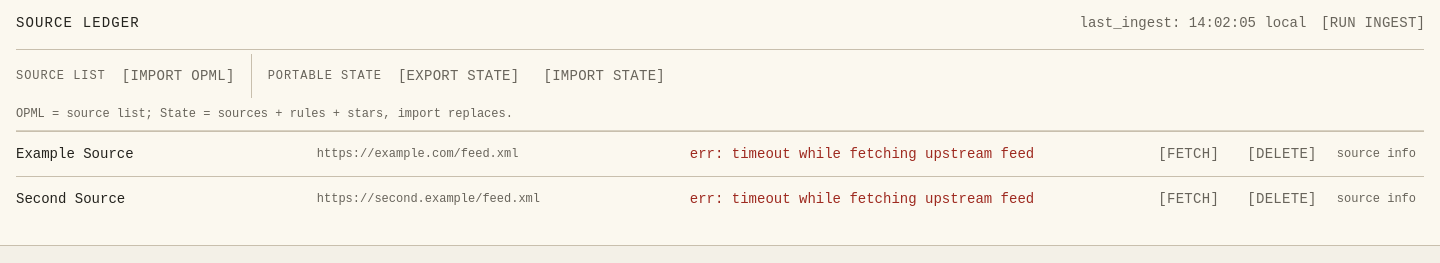
Test: srdct expected-red frontend UI contracts › disables only the active Source Ledger fetch row while another row remains reachable for backend conflict proof
Click the button "[FETCH]" in the row of "Example Source". click: {"x": 1189, "y": 154}
box: 1134,132 -> 1243,176
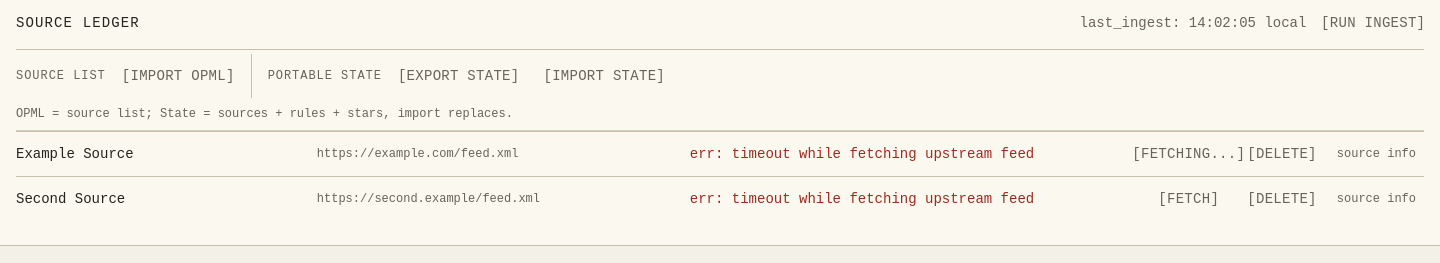
expect the button "[FETCHING...]" is disabled: met, box 1134,132 -> 1243,176
expect the button "[FETCHING...]" is shown: met, box 1134,132 -> 1243,176
Click the button "[FETCH]". click: {"x": 1189, "y": 199}
box: 1134,177 -> 1243,221
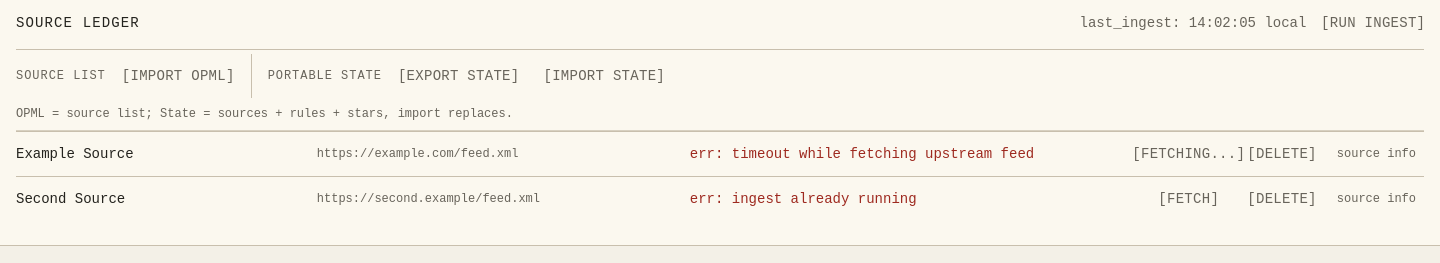
expect the text "err: ingest already running" is shown: met, box 690,191 -> 917,207
